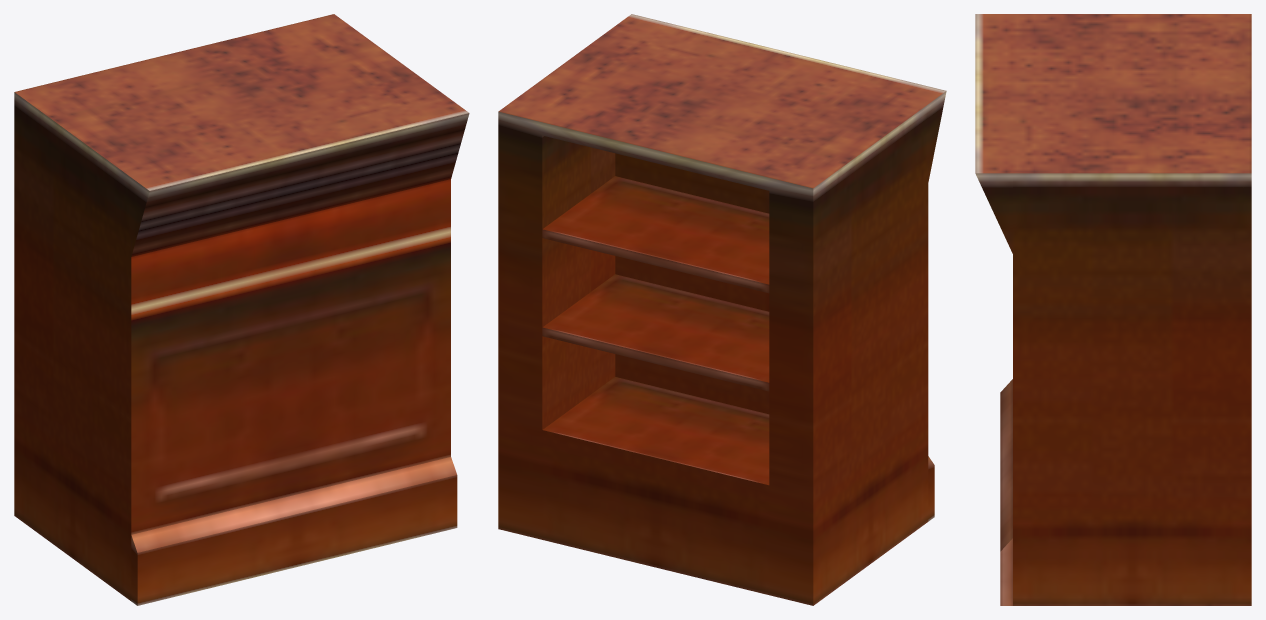
File: BarCounter01.obj
3 views of the same model, side by side, from view 1: azimuth 30°, elevation 25°; view 2: azimuth 150°, elevation 25°; view 3: azimuth 270°, elevation 25° (orthographic). The views are drawn at different scales.
Parts seen in each view (by area): view 1: BarCounter01; view 2: BarCounter01; view 3: BarCounter01.
Boxes of the visible parts, x1,y1,x2,y2 form: BarCounter01: (14,14,469,605); BarCounter01: (498,14,946,605); BarCounter01: (975,14,1251,605).
Bounding box in the file's own units: 1.5 × 1.9 × 1.1.
